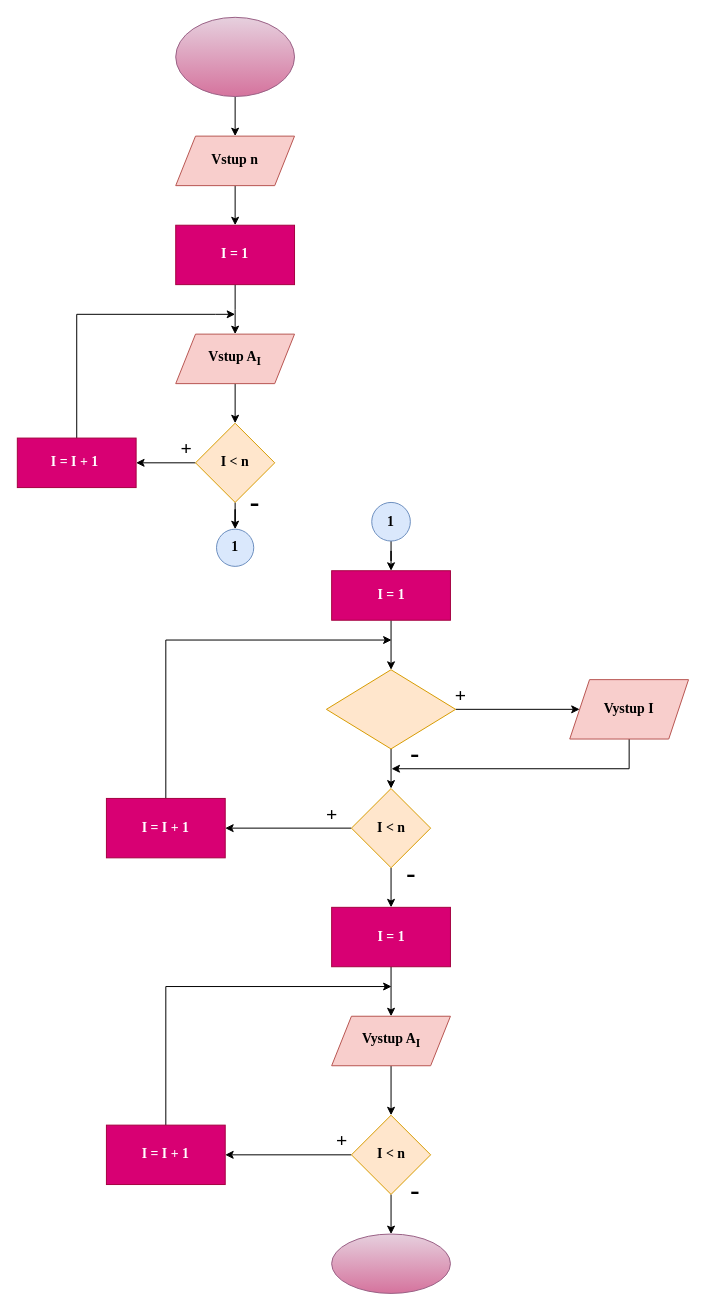
Some shapes in this 706 by 1311 pixel diagram are drawn without their labels. Here are the shapes that lost their labels. From the top down, the centre of each, then its label:
(235,56): START
(390,709): (A I MOD2) = 0
(390,1263): STOP
